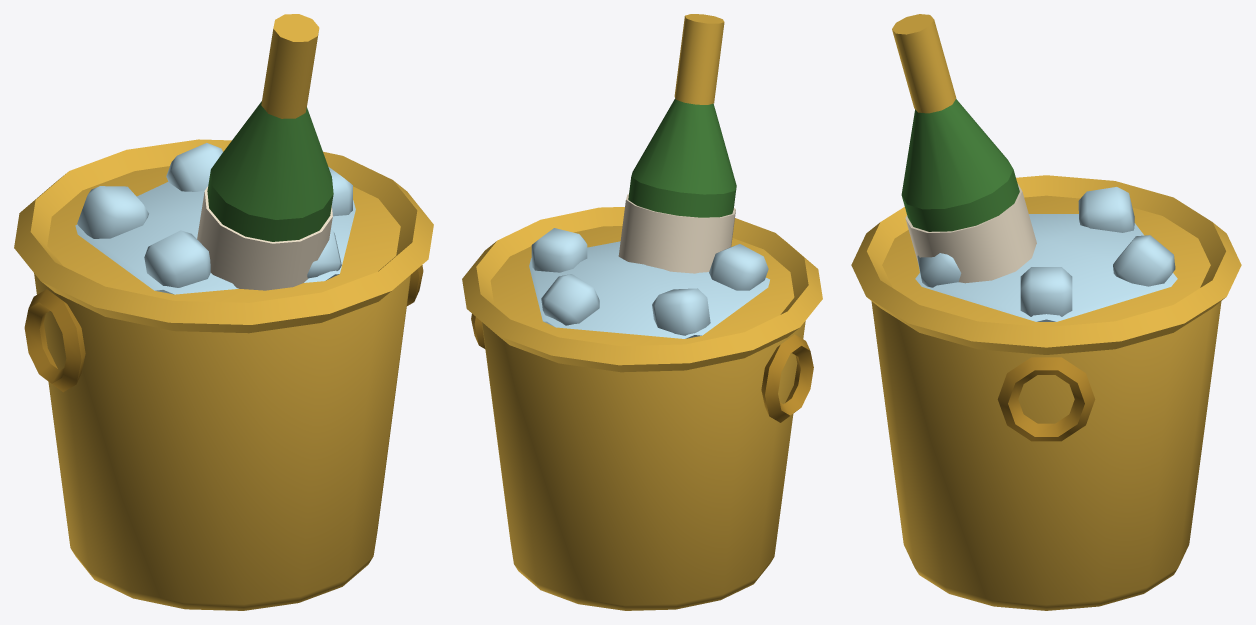
File: balde_champanhe.glb
3 renders of one model, left to right at view 1: azimuth 30°, elevation 25°; view 2: azimuth 150°, elevation 25°; view 3: azimuth 270°, elevation 25°, orthographic. The views are drawn at different scales.
Parts seen in each view (by area): view 1: Balde_Champanhe; view 2: Balde_Champanhe; view 3: Balde_Champanhe.
Part boxes in pixels (x1,y1,x2,y2): Balde_Champanhe: (14, 14, 433, 610); Balde_Champanhe: (462, 14, 822, 610); Balde_Champanhe: (851, 14, 1241, 610).
Size of the model in its own units: 0.304 by 0.4611 by 0.304.
